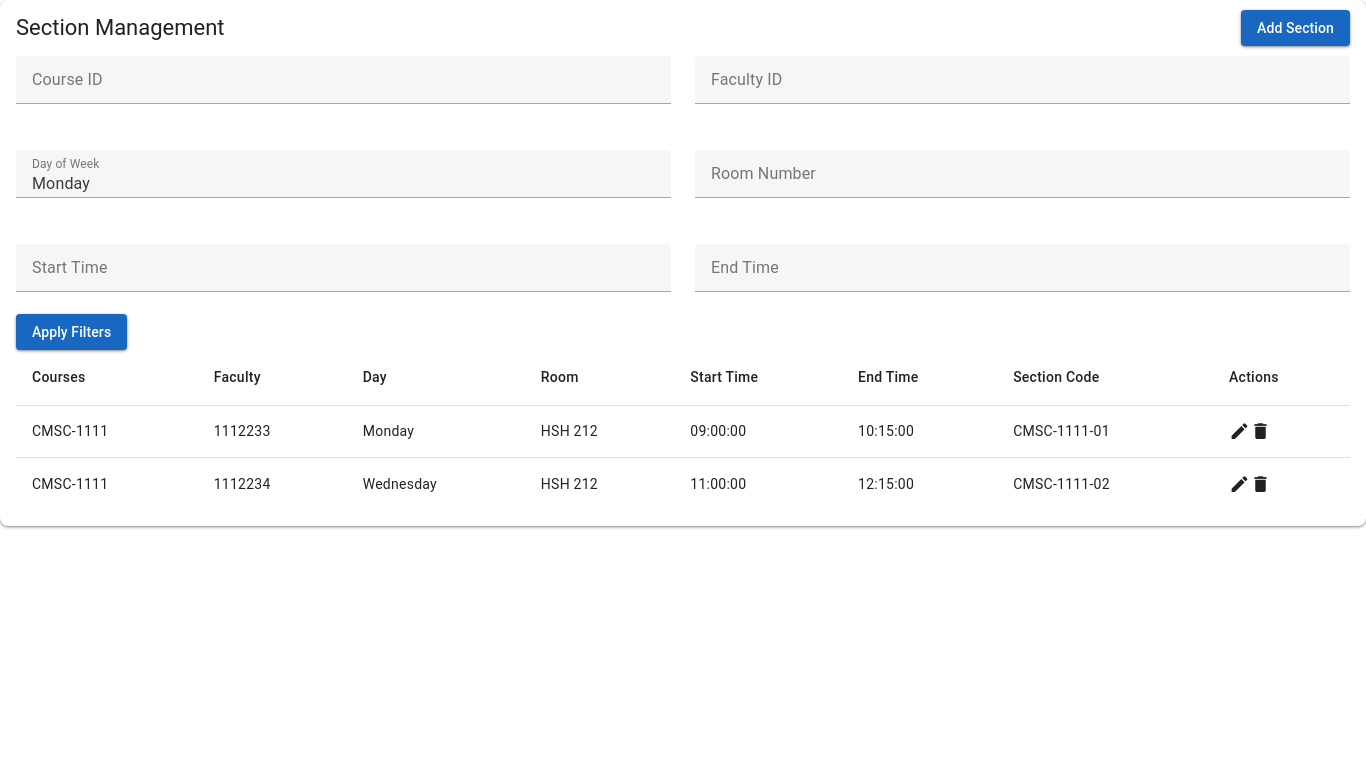
Test: Feature 5 — Section Management › US-5.4 — List & Filter Sections › Filter sections
Click the button "Apply Filters". click: (72, 332)
box: [16, 314, 127, 350]
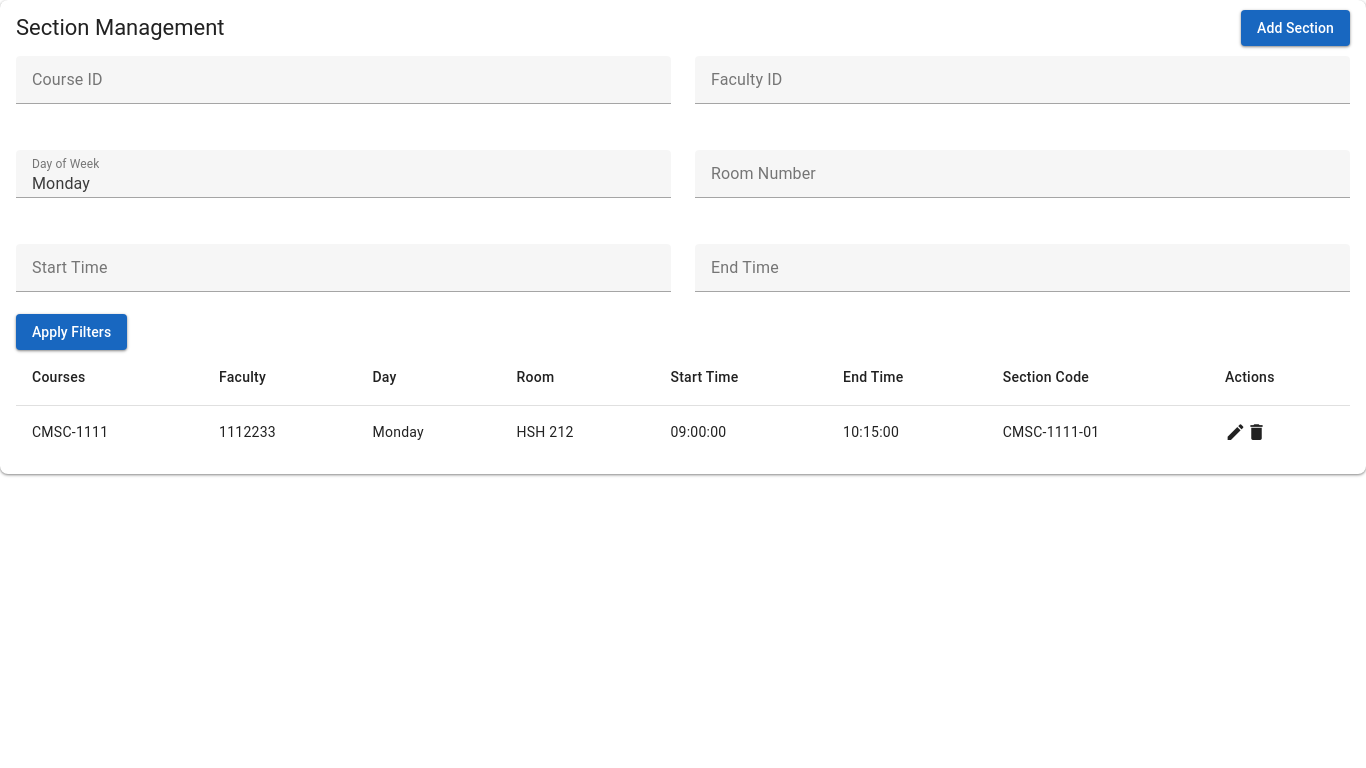
Expected: the text "CMSC-1111-01" is shown, [987, 406, 1209, 458]
Expected: the text "CMSC-1111-02" is gone
